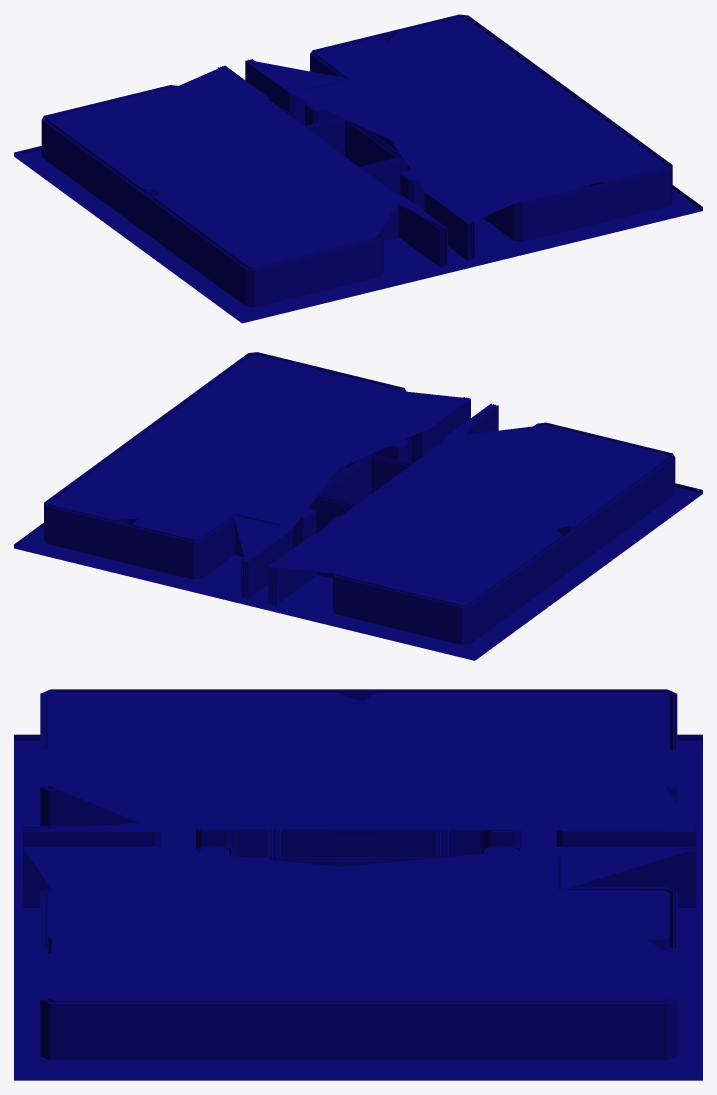
File: arena.fbx
3 views of the same model, one above another, from view 1: azimuth 30°, elevation 25°; view 2: azimuth 150°, elevation 25°; view 3: azimuth 270°, elevation 25° (orthographic). The views are drawn at different scales.
Parts seen in each view (by area): view 1: map; view 2: map; view 3: map.
Part boxes in pixels (x1=…): map: x1=14, y1=14, x2=702, y2=323; map: x1=14, y1=352, x2=702, y2=660; map: x1=14, y1=689, x2=702, y2=1080.
Size of the model in its own units: 2800 by 242 by 2400.
